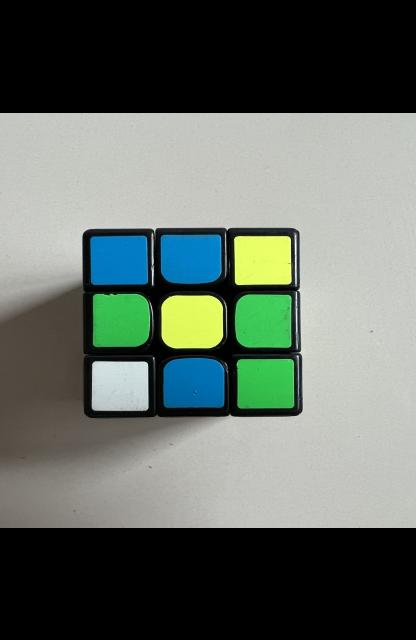Blue: (160, 233, 222, 283), (163, 357, 224, 407), (90, 234, 148, 284)
Green: (234, 293, 292, 347), (93, 293, 150, 346), (237, 358, 294, 408)
White: (92, 360, 149, 410)
Yellow: (160, 294, 223, 348), (234, 236, 292, 284)
